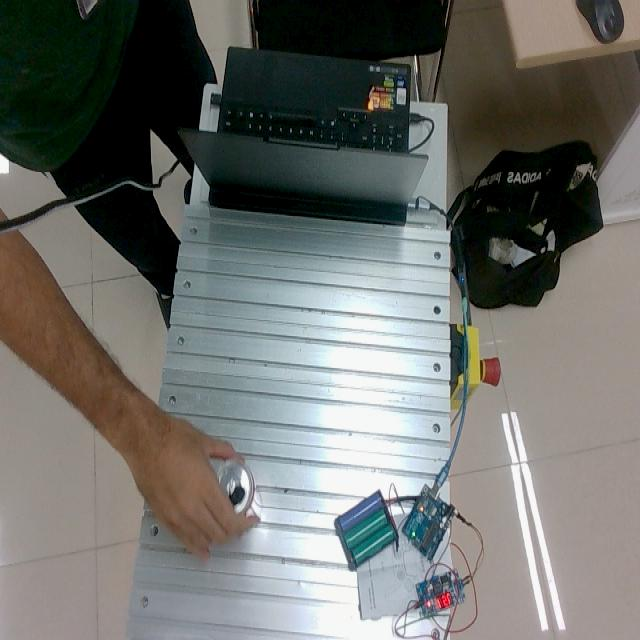coca: (208, 458, 256, 516)
